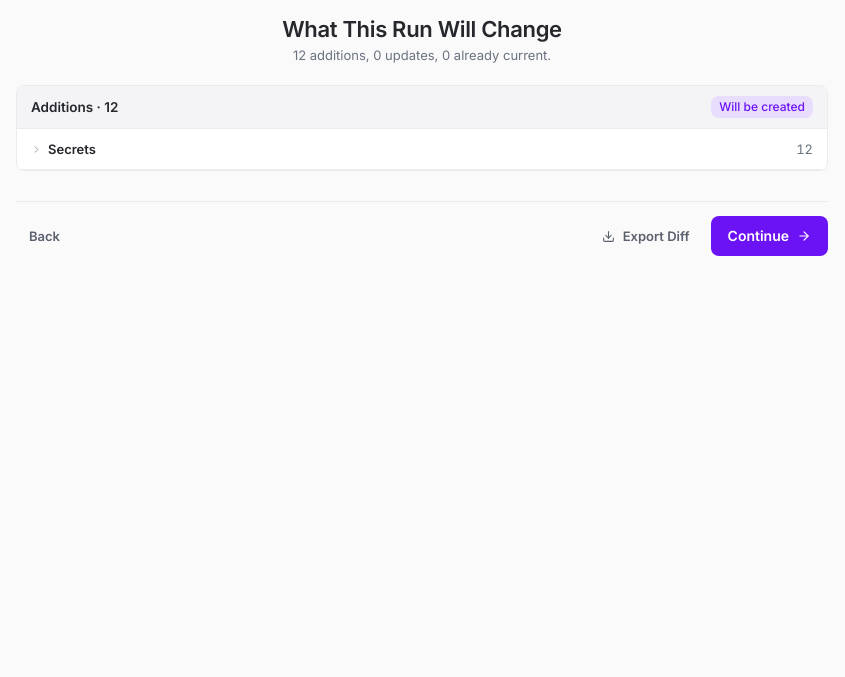
Test: PlanReviewPage › keeps a long rollup closed until asked
Expected: the heading "What This Run Will Change" is shown, [282,16,562,42]
Expected: the text "SECRET_0" is not shown
Click the button "Secrets" at (72, 149), box [31,139,719,159]
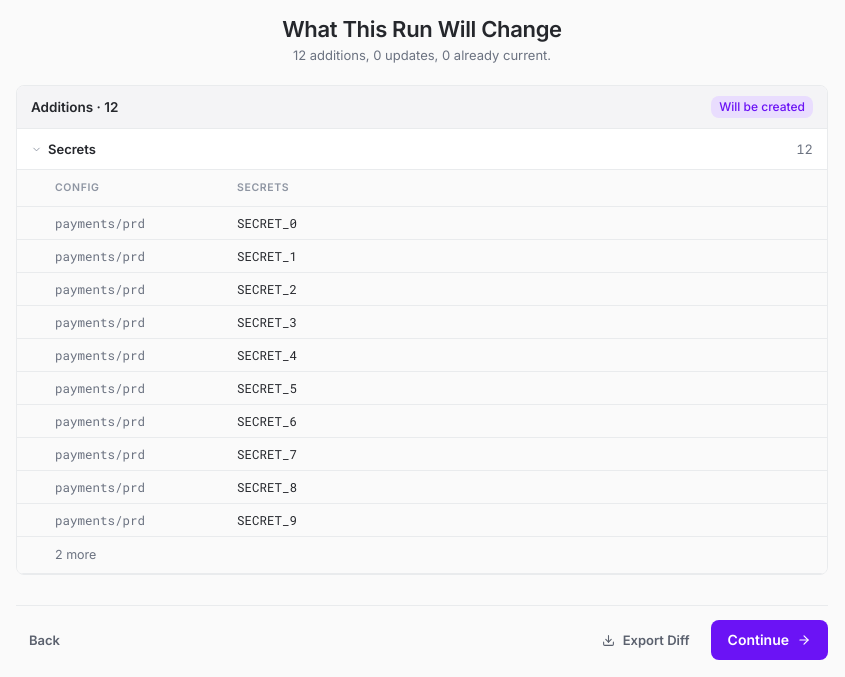
Expected: the text "SECRET_0" is shown, [237,215,297,231]
Expected: the text "2 more" is shown, [55,545,96,565]
